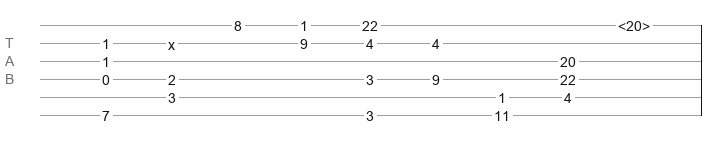0: (102, 72, 110, 82)
1: (102, 36, 110, 46), (102, 54, 110, 64), (300, 18, 308, 28), (498, 90, 506, 100)
11: (494, 108, 510, 118)
2: (168, 72, 176, 82)
20: (560, 54, 576, 64)
22: (362, 18, 378, 28), (560, 72, 576, 82)
3: (168, 90, 176, 100), (366, 72, 374, 82), (366, 108, 374, 118)
4: (366, 36, 374, 46), (432, 36, 440, 46), (564, 90, 572, 100)
7: (102, 108, 110, 118)
8: (234, 18, 242, 28)
9: (300, 36, 308, 46), (432, 72, 440, 82)
harmonic: (618, 18, 650, 28)
x: (168, 37, 175, 45)
